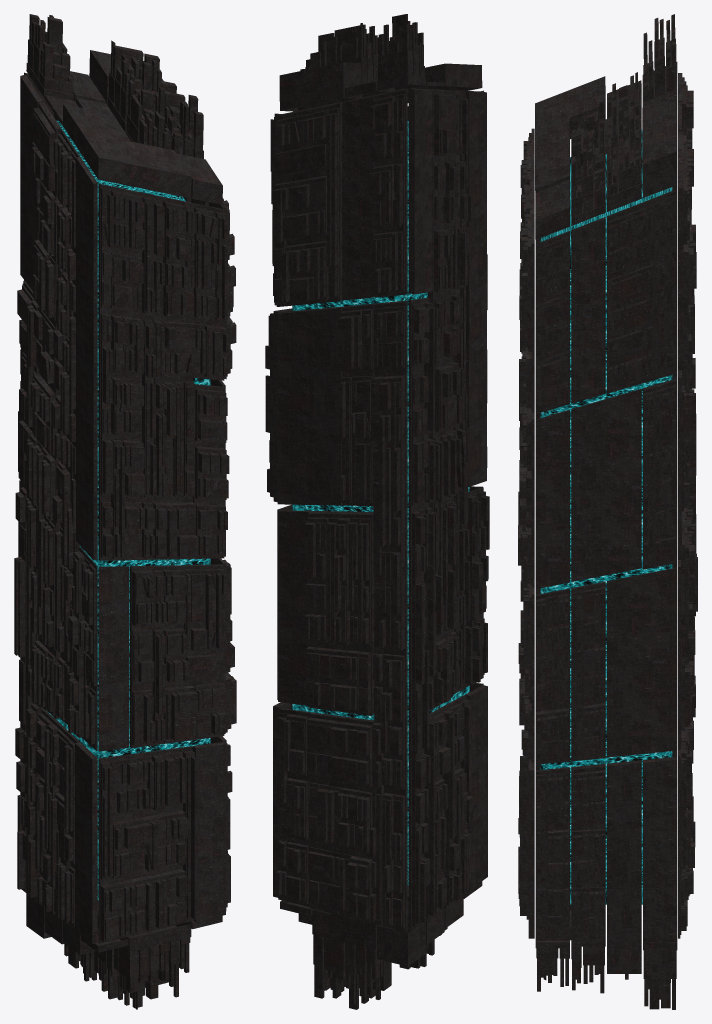
Rendered from alpha_tower.glb.
3 views of the same model, side by side, from view 1: azimuth 30°, elevation 25°; view 2: azimuth 150°, elevation 25°; view 3: azimuth 270°, elevation 25° (orthographic). The views are drawn at different scales.
Visible parts, largest first — view 1: PILLAR_ALPHA_0; view 2: PILLAR_ALPHA_0; view 3: PILLAR_ALPHA_0.
Boxes of the visible parts, <box> form: PILLAR_ALPHA_0: <box>14,14,236,1009</box>; PILLAR_ALPHA_0: <box>265,14,489,1009</box>; PILLAR_ALPHA_0: <box>518,14,697,1009</box>.
Size of the model in its own units: 2.93 by 17.23 by 2.93.
Materials: 2 (2 with a texture image).
